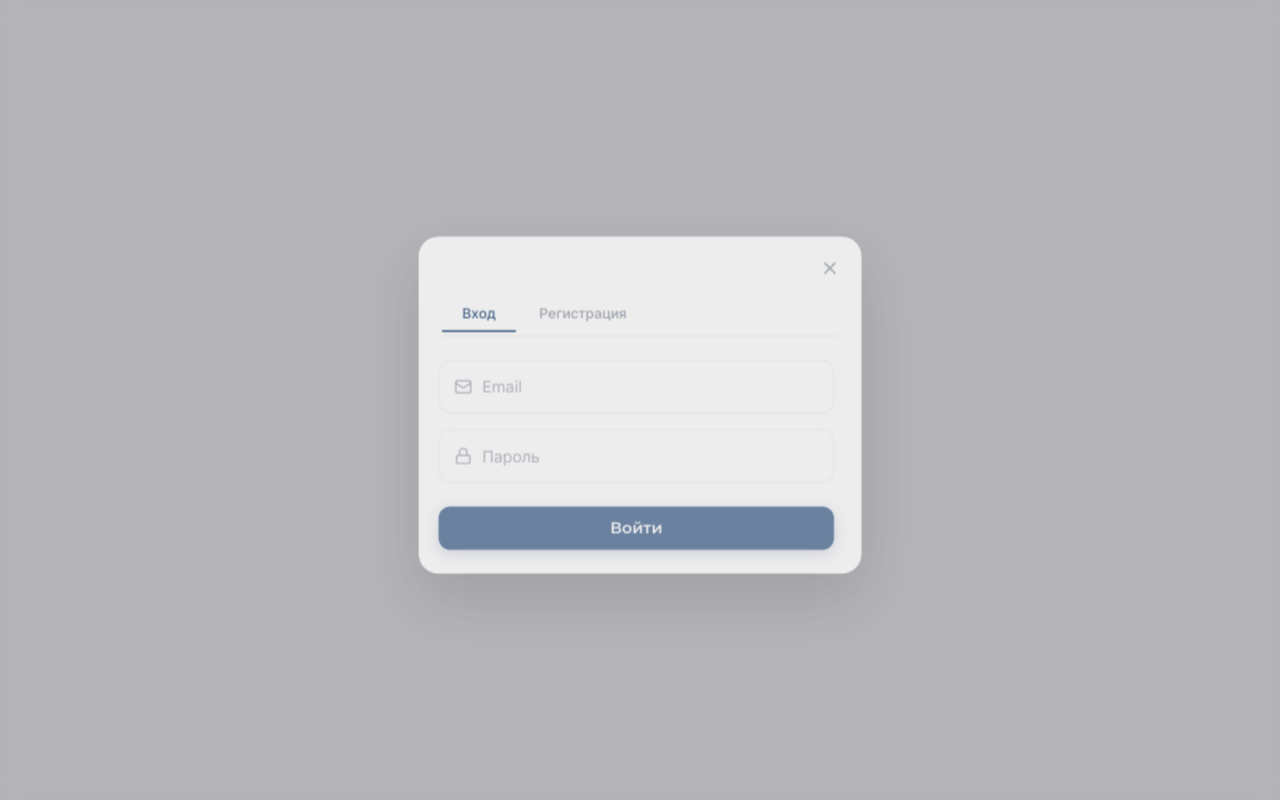
Test case: AuthModal unavailable auth service › shows a wrong password under the form, keeps the email and clears the password
The width and height of the screenshot is (1280, 800).
Type "a@b.com" into the field labelled "Email" at (636, 386), box [438,360,834,413]
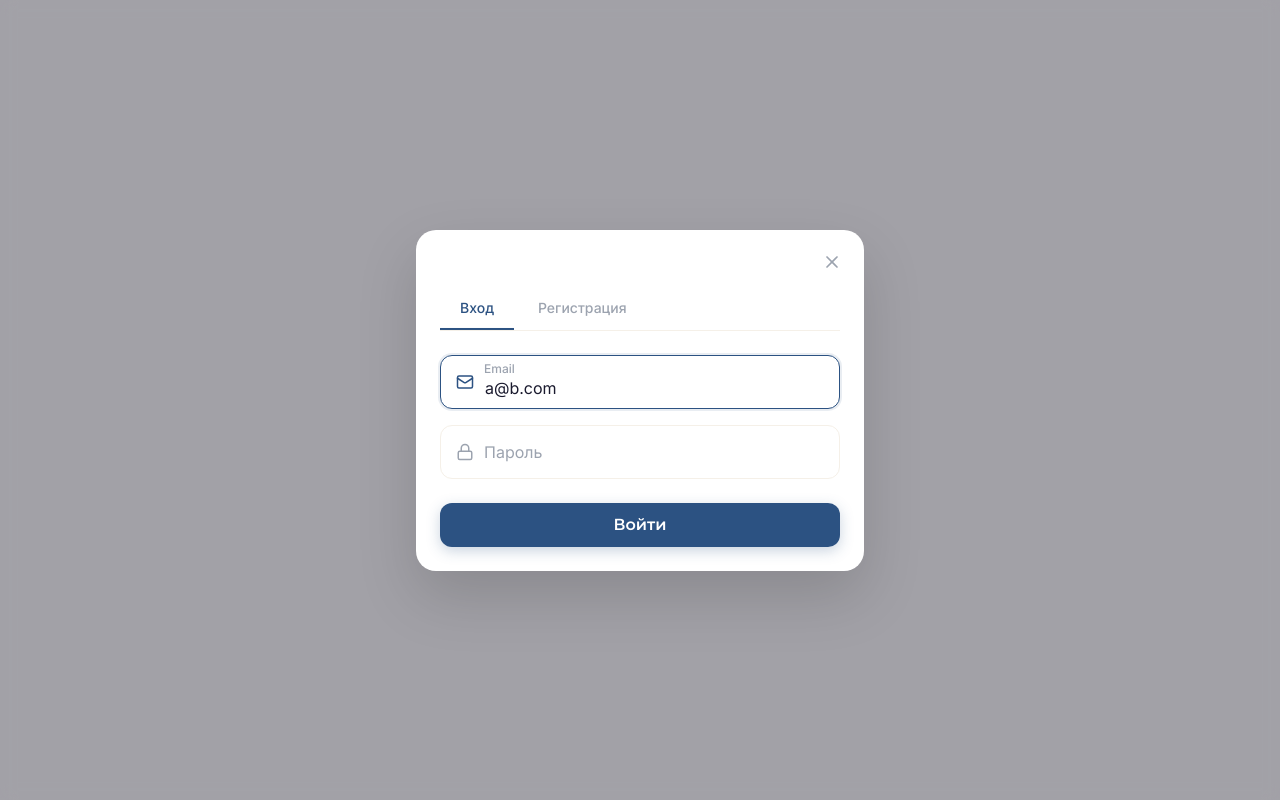
Type "secret" into the password field labelled "Пароль" at (640, 452), box [440,424,840,478]
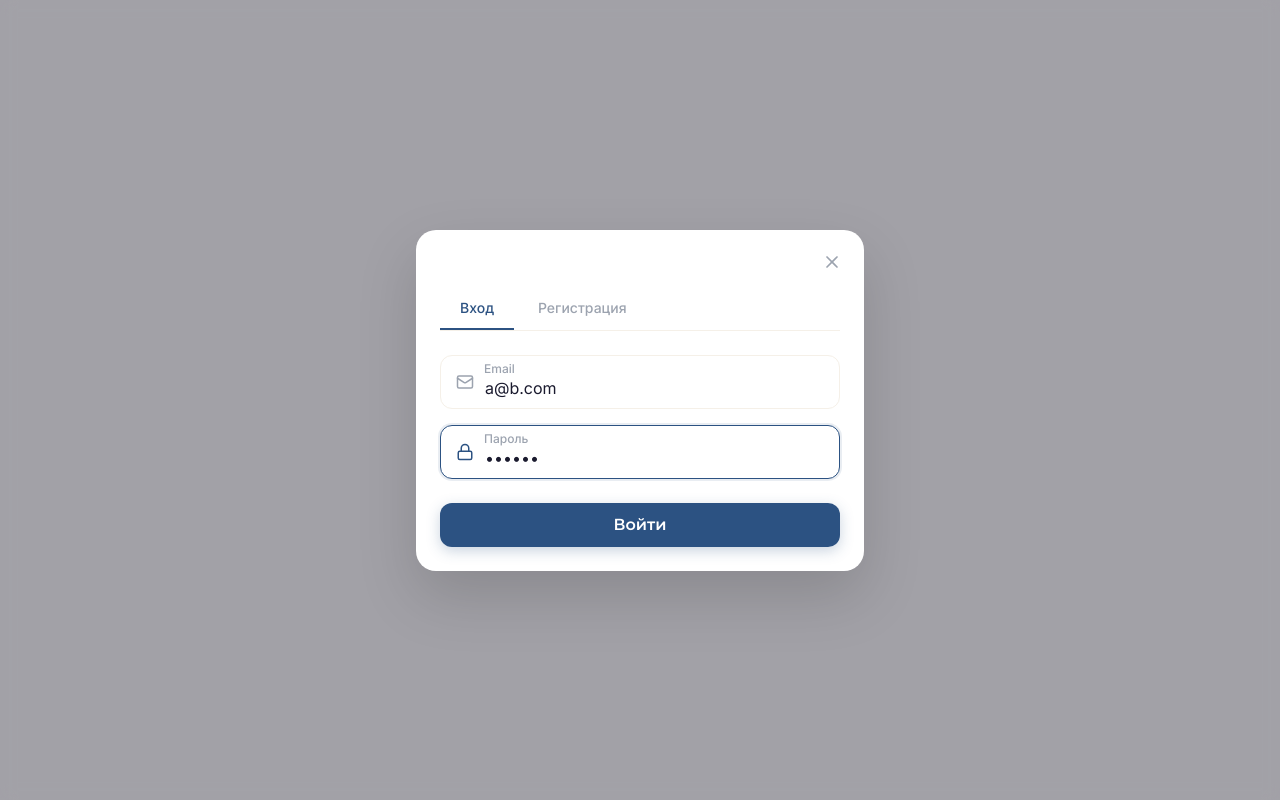
Click the button "Войти" at (640, 524), box [440,502,840,546]
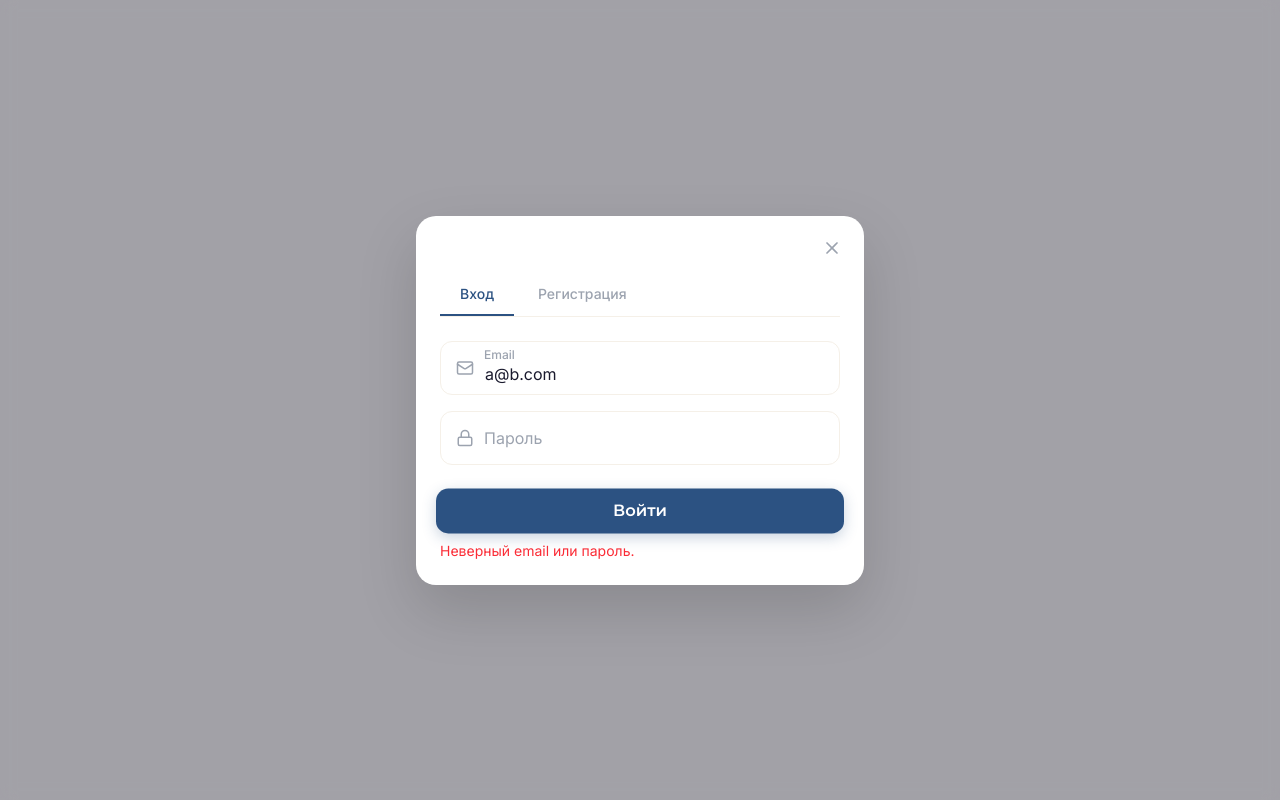
Expected: the message reads "Неверный email или пароль.", [440,542,634,558]
Expected: the password field labelled "Пароль" is empty, [440,410,840,464]
